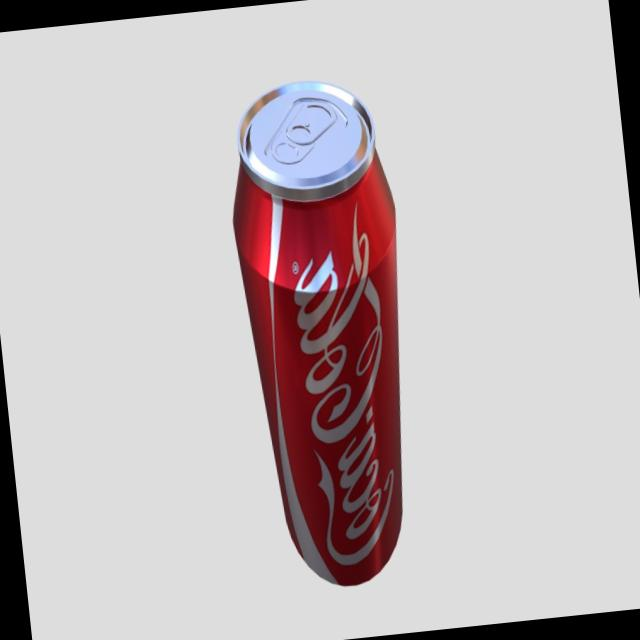cocacola: (219, 62, 442, 612)
